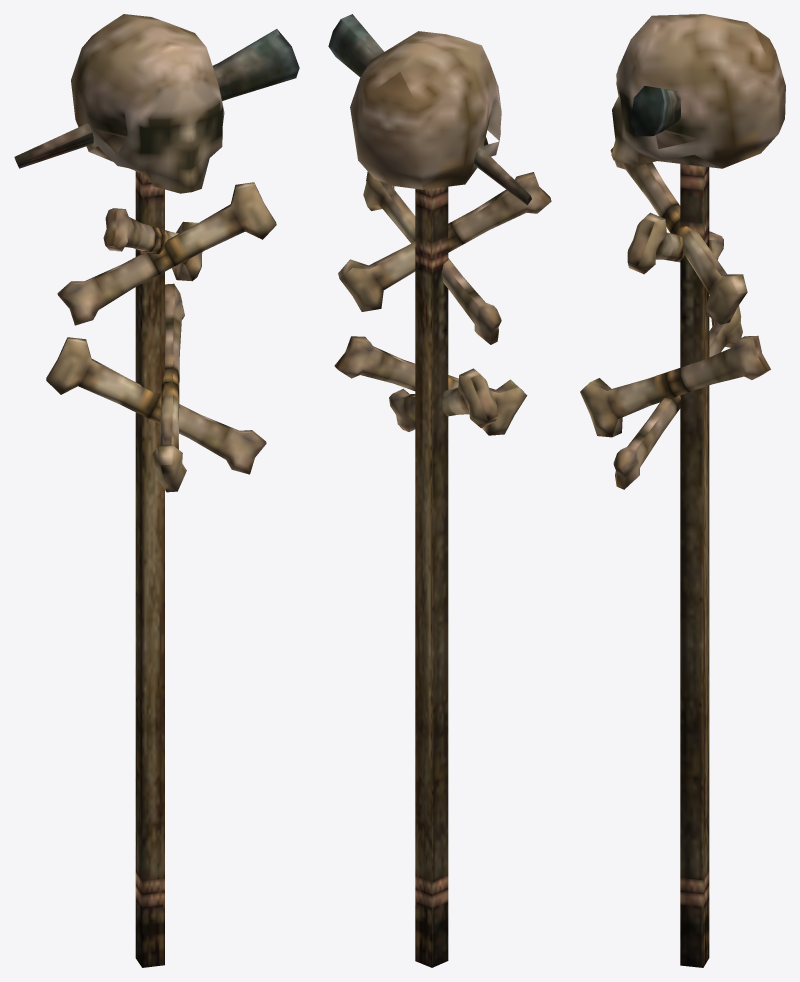
File: ob-11-05-bonetomb_04.glb
3 renders of one model, left to right at view 1: azimuth 30°, elevation 25°; view 2: azimuth 150°, elevation 25°; view 3: azimuth 270°, elevation 25°, orthographic. The views are drawn at different scales.
Parts seen in each view (by area): view 1: Mesh04; view 2: Mesh04; view 3: Mesh04.
Part boxes in pixels (<box>): Mesh04: <box>14,14,299,967</box>; Mesh04: <box>328,14,551,967</box>; Mesh04: <box>580,14,785,967</box>.
Size of the model in its own units: 0.66 by 2.46 by 0.4857.
Materials: 1 (1 with a texture image).
